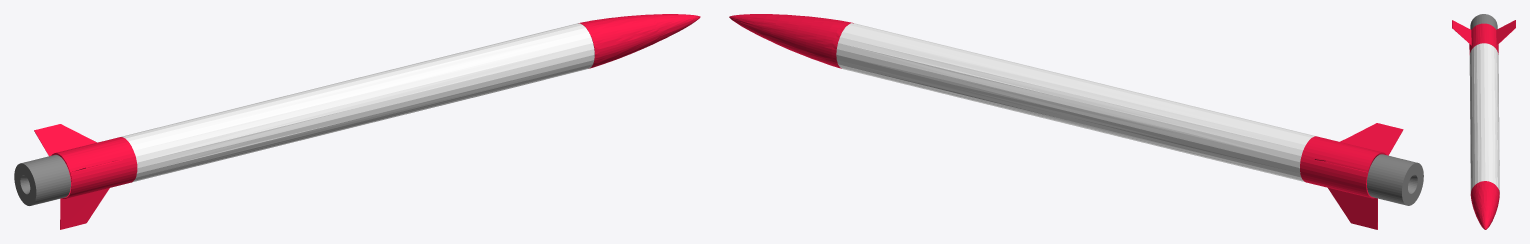
Rendered from my-raj-rocket-1.glb.
The picture shows the model from 3 angles, left to right: view 1: azimuth 30°, elevation 25°; view 2: azimuth 150°, elevation 25°; view 3: azimuth 270°, elevation 25°; orthographic projection. The views are drawn at different scales.
Size of the model in its own units: 3.57 by 0.4079 by 0.4703.
